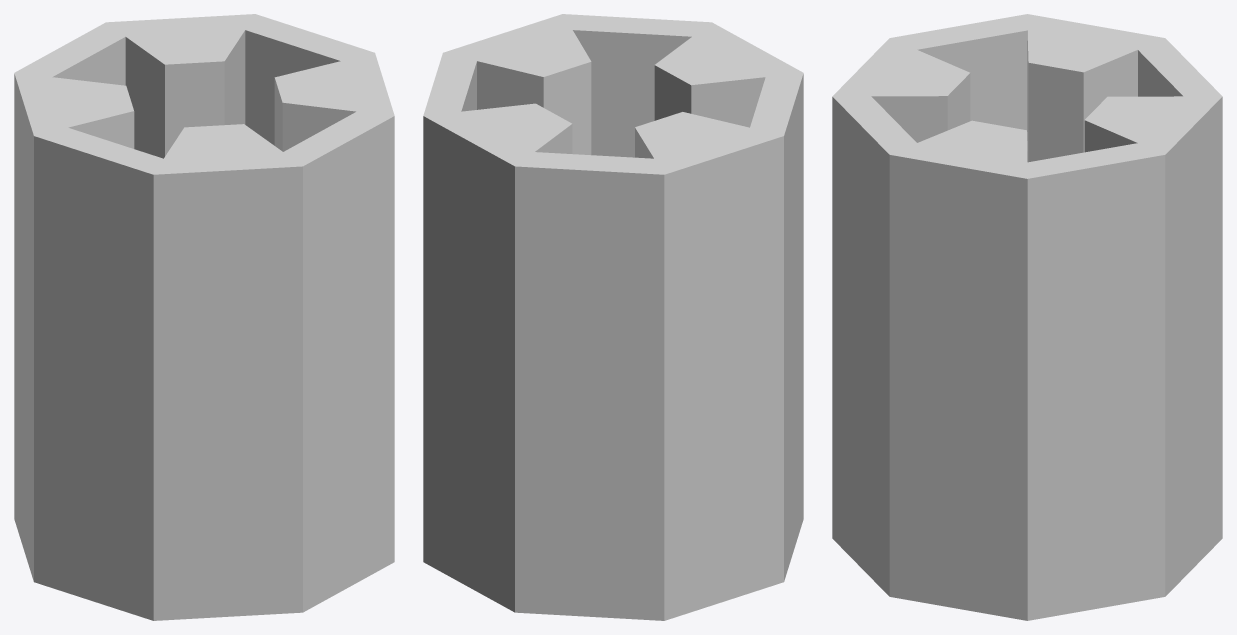
The model's file is tape_core.obj.
The picture shows the model from 3 angles, left to right: view 1: azimuth 30°, elevation 25°; view 2: azimuth 150°, elevation 25°; view 3: azimuth 270°, elevation 25°; orthographic projection.
Visible parts, largest first — view 1: base_円柱; view 2: base_円柱; view 3: base_円柱.
Part boxes in pixels (left/top/right/bottom): base_円柱: left=14, top=14, right=394, bottom=620; base_円柱: left=423, top=14, right=803, bottom=620; base_円柱: left=832, top=14, right=1222, bottom=620.
Bounding box in the file's own units: 0.05 × 0.0625 × 0.05.
